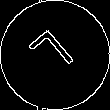L_SE: (27, 26, 83, 84)
